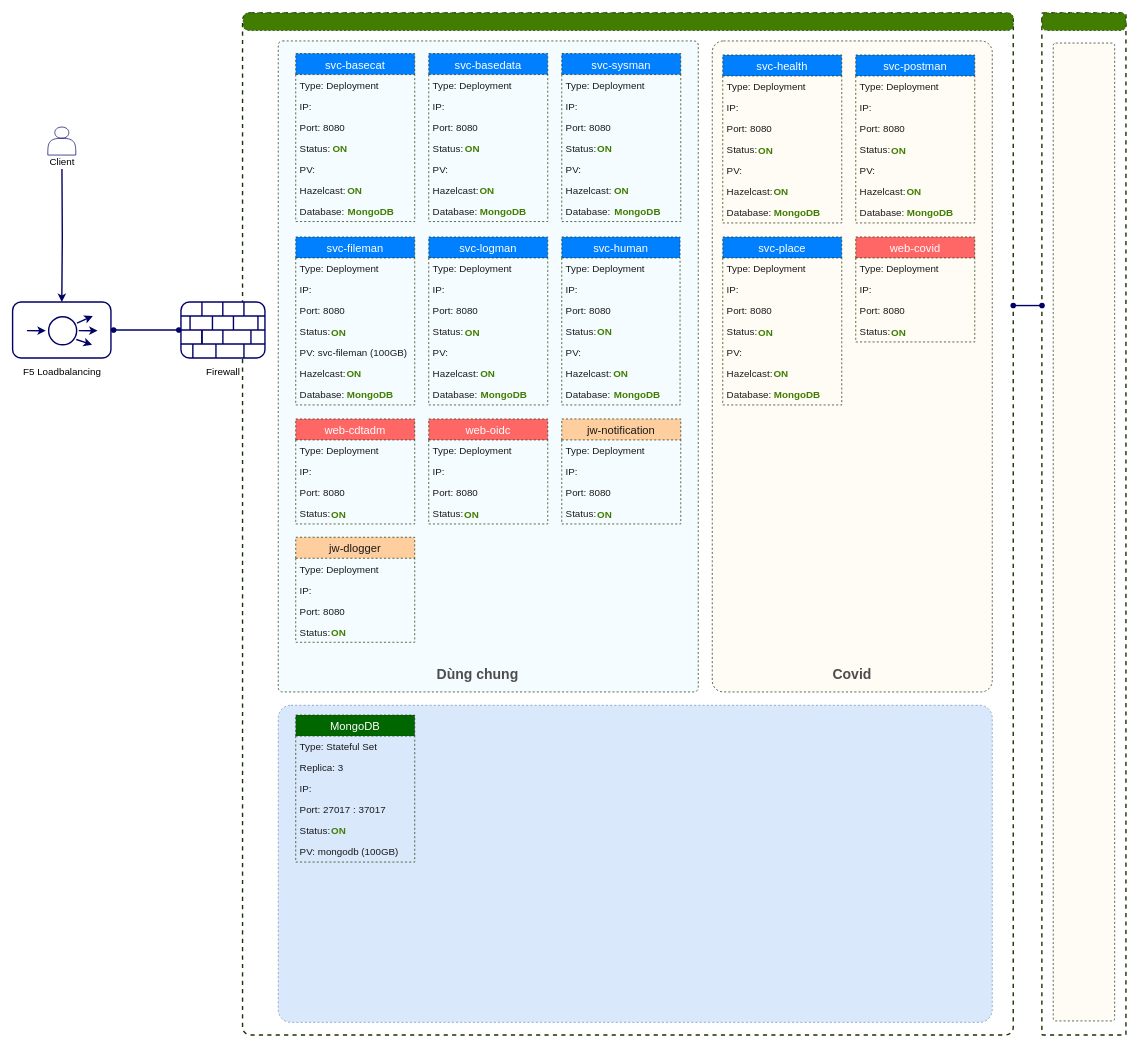
Some shapes in this 1139 by 1047 pixel diagram are drawn without their labels. The shapes that lost their labels are listed below. From the top down, each one's centre as x and y in pixels, then its label:
the point at 628,21: k8s
the point at 1083,21: kafka
the point at 1084,531: Kafka Cluster
